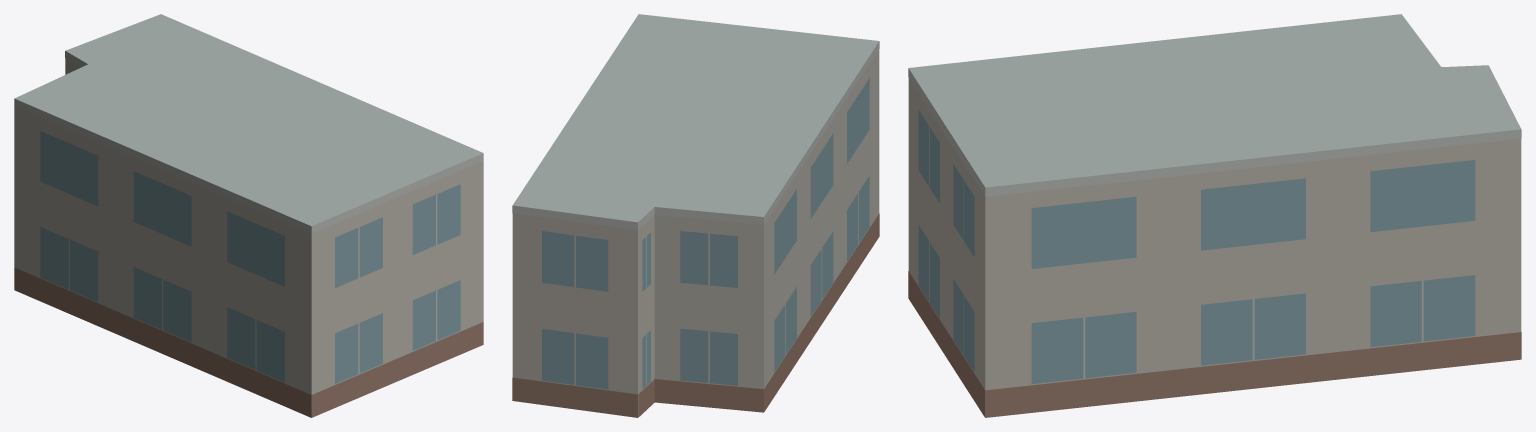
Rendered from survey-upis-32704230.glb.
3 renders of one model, left to right at view 1: azimuth 30°, elevation 25°; view 2: azimuth 150°, elevation 25°; view 3: azimuth 270°, elevation 25°, orthographic. The views are drawn at different scales.
Visible parts, largest first — view 1: survey-upis-32704230.tmp; view 2: survey-upis-32704230.tmp; view 3: survey-upis-32704230.tmp.
Boxes of the visible parts, x1,y1,x2,y2 form: survey-upis-32704230.tmp: (14, 14, 483, 417); survey-upis-32704230.tmp: (512, 14, 879, 417); survey-upis-32704230.tmp: (908, 14, 1521, 417).
Size of the model in its own units: 9.87 by 6.1 by 14.73.
